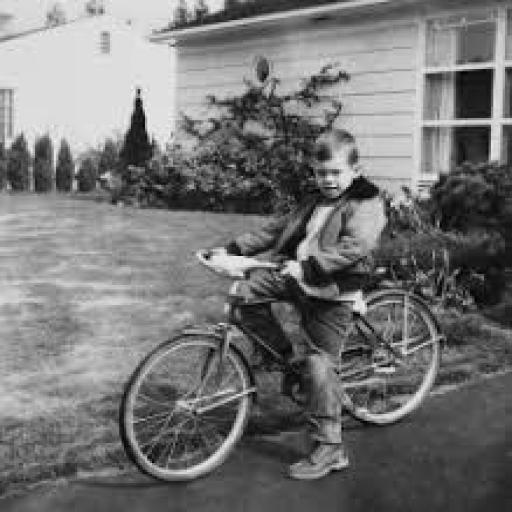cycling: (217, 125, 393, 483)
